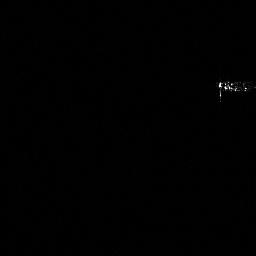ship: (214, 77, 256, 104)
